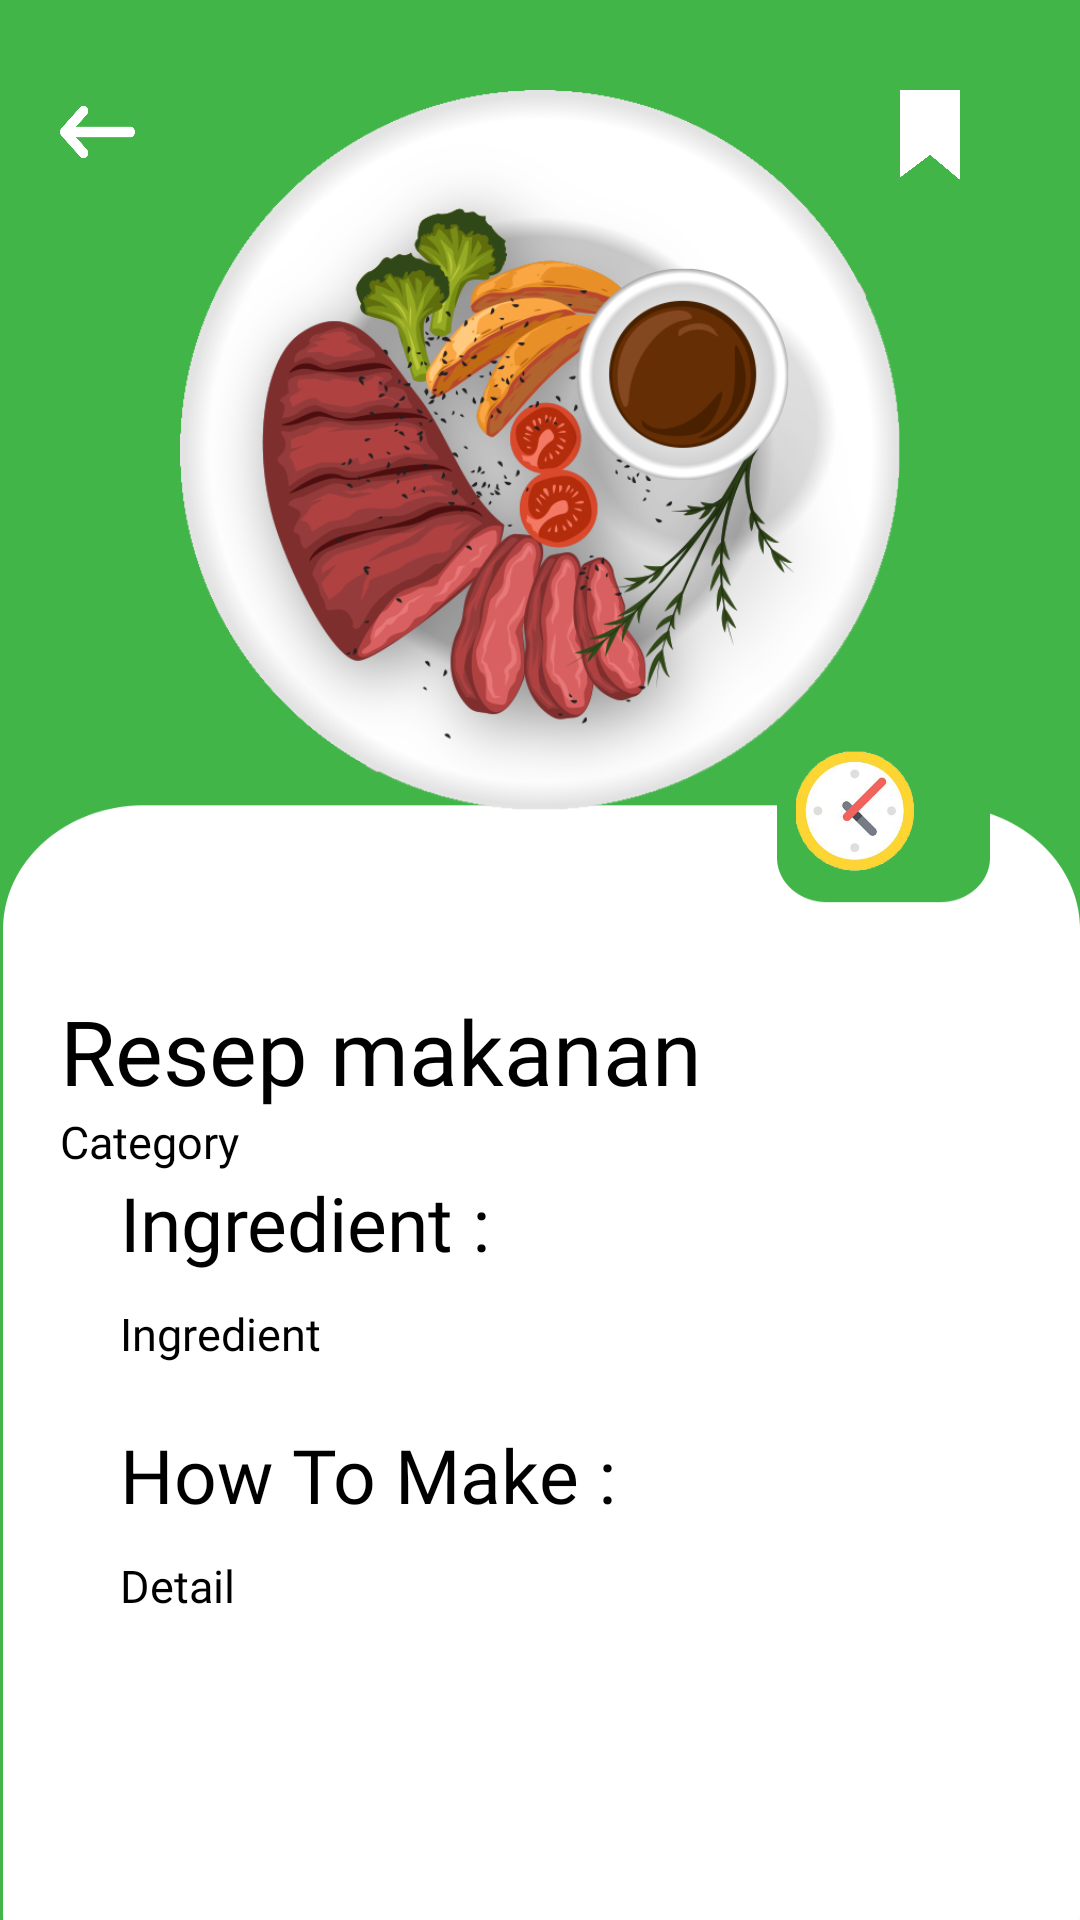

Icons on this 1080px×1920px Android screen, each with the point to tap as (x=x, y=y):
saveicon: (x=930, y=135)
timeicon: (x=855, y=811)
